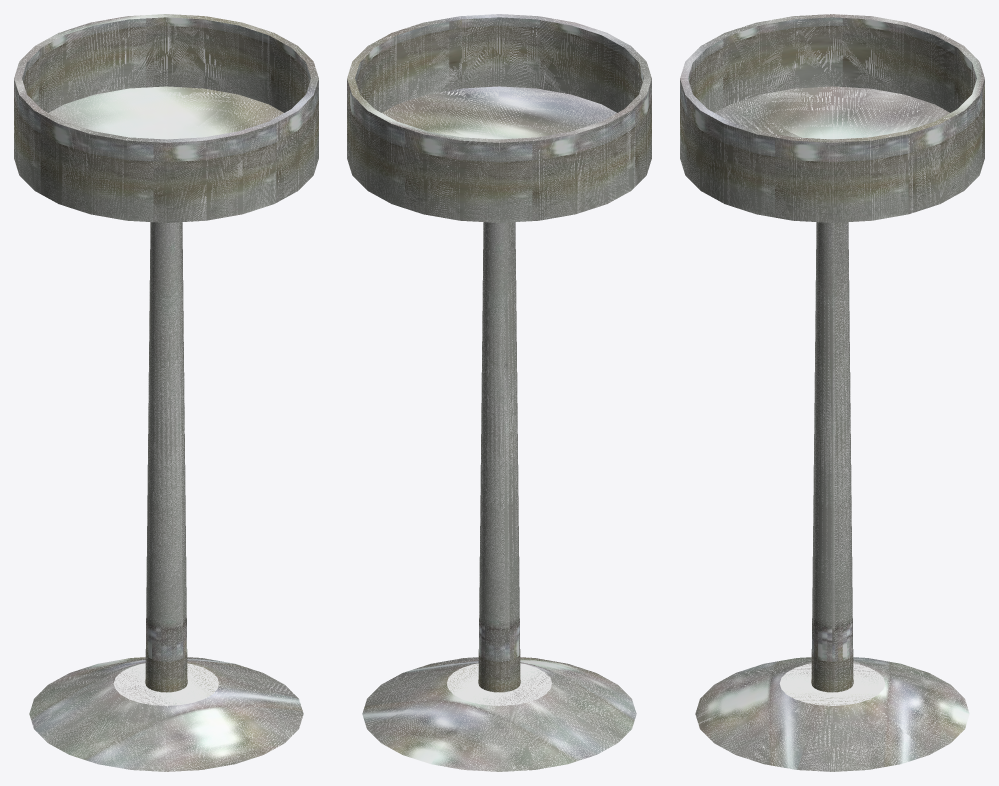
File: candle_thick_holder.dae
3 views of the same model, side by side, from view 1: azimuth 30°, elevation 25°; view 2: azimuth 150°, elevation 25°; view 3: azimuth 270°, elevation 25° (orthographic).
Parts seen in each view (by area): view 1: SketchUp (×6); view 2: SketchUp (×6); view 3: SketchUp (×6).
Part boxes in pixels (x1,y1,x2,y2): SketchUp (×6): [14, 14, 318, 771]; SketchUp (×6): [347, 14, 651, 771]; SketchUp (×6): [680, 14, 984, 771].
Bounding box in the file's own units: 0.1 × 0.1 × 0.23.
5 materials, 3 textured.
